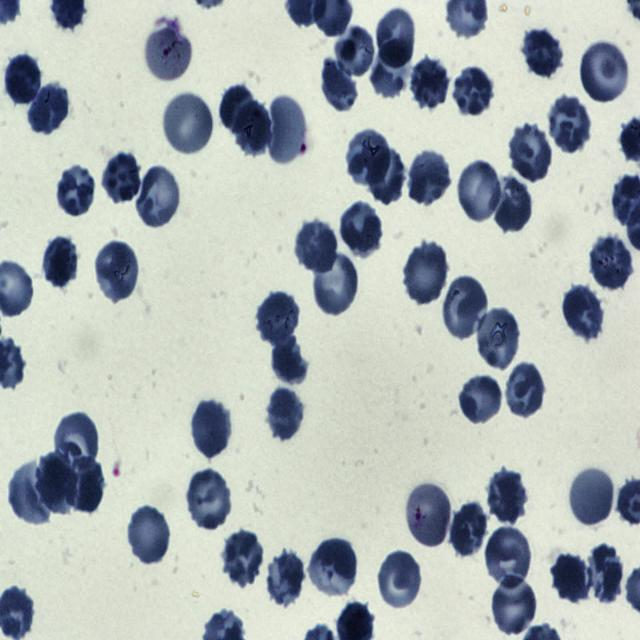red blood cell: (162, 90, 215, 156), (580, 38, 630, 106), (484, 524, 533, 592), (308, 536, 360, 599), (312, 249, 360, 317), (489, 573, 539, 637), (184, 467, 233, 532), (403, 240, 450, 306), (440, 274, 488, 338), (457, 158, 502, 224), (376, 550, 424, 611), (136, 164, 181, 229), (51, 409, 102, 466), (476, 307, 522, 370), (568, 467, 616, 527), (94, 240, 140, 302), (268, 96, 308, 166), (376, 6, 418, 70), (36, 452, 78, 516), (508, 123, 554, 181), (128, 504, 171, 566), (8, 463, 50, 525), (63, 454, 105, 515), (548, 94, 591, 153), (339, 201, 384, 257), (346, 128, 390, 185), (588, 236, 634, 290), (370, 39, 412, 98), (408, 149, 452, 205), (562, 283, 605, 340), (191, 399, 232, 458), (335, 22, 376, 80), (232, 100, 274, 156), (256, 291, 300, 344), (222, 531, 265, 585), (266, 551, 306, 608), (486, 468, 528, 522), (367, 148, 407, 204), (588, 542, 624, 604), (28, 81, 70, 134), (506, 362, 545, 419), (493, 177, 532, 233), (55, 164, 96, 217), (102, 150, 142, 204), (296, 221, 338, 272), (220, 81, 258, 137), (5, 50, 41, 109), (411, 55, 450, 109), (521, 29, 563, 79), (552, 554, 594, 604), (460, 374, 502, 424), (265, 388, 304, 441), (320, 60, 358, 114), (270, 333, 308, 386), (453, 65, 493, 115), (452, 502, 488, 557), (43, 235, 80, 288)
ring: (406, 481, 452, 550), (144, 22, 193, 83)
